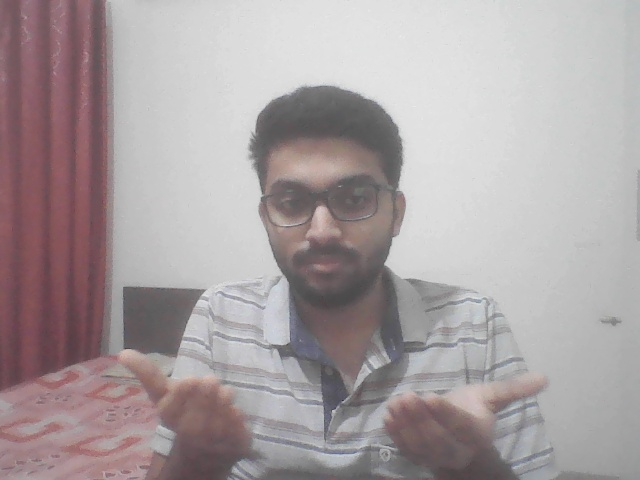what: (115, 336, 554, 472)
